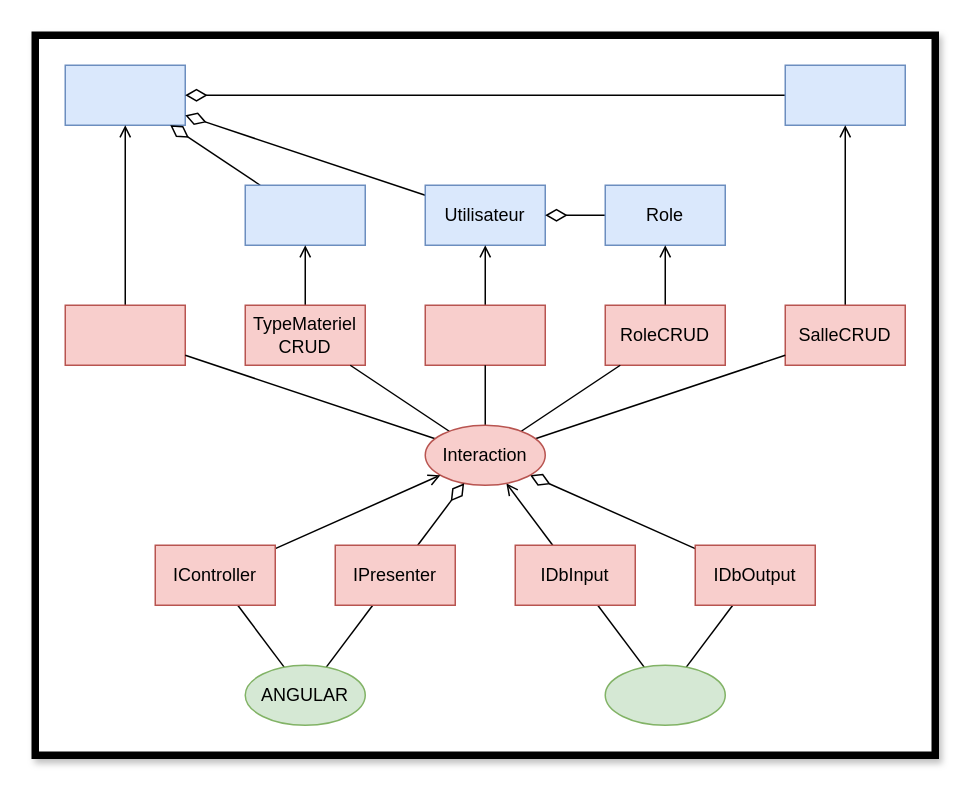
The diagram is 974 pixels wide and 795 high, and some of its shapes have lost their labels. Here are the shapes that lost their labels. From the top down, the centre of each, then its label:
At point 124,94: "Materiel".
At point 844,94: "Salle".
At point 304,214: "TypeMateriel".
At point 124,334: "MaterielCRUD".
At point 484,334: "Utilisateur CRUD".
At point 664,694: "CQRS".
